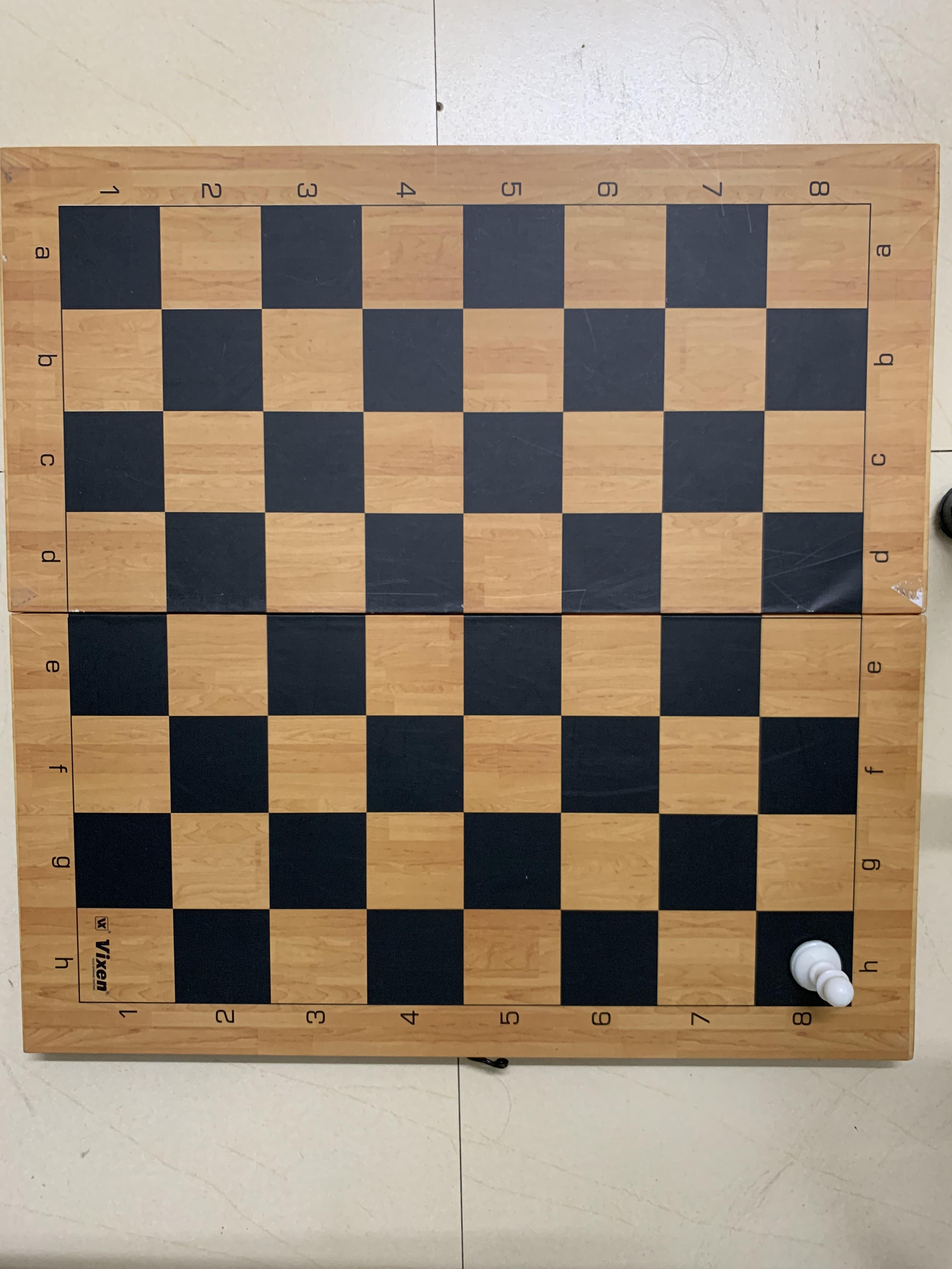white_pawn: (759, 908, 863, 1009)
